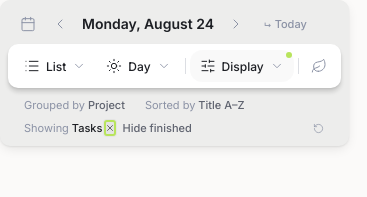
Test case: the desktop mount, under the view pill › keeps the last phrase’s ✕ it hands focus to as Reset goes
Expected: the button with test id "display-shelf-reset-canvas" is shown, left=311, top=119, right=327, bottom=137
Click the button named "Remove Showing Tasks": x=110, y=128 left=103, top=119, right=117, bottom=137
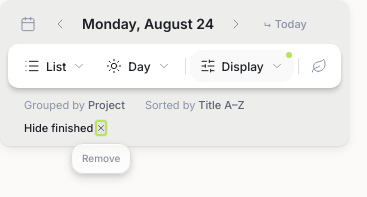
Expected: the button with test id "display-shelf-reset-canvas" is gone
